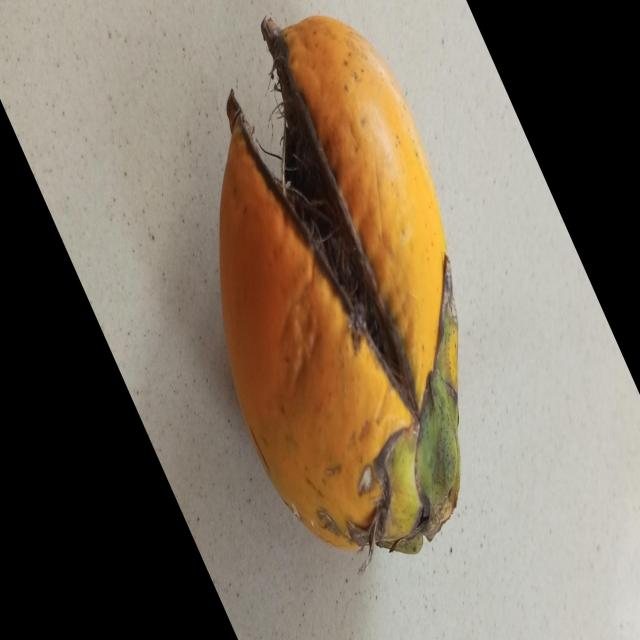damaged: (218, 16, 462, 556)
